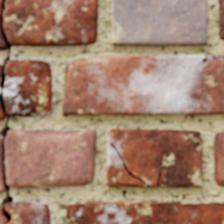brick: (62, 56, 223, 115), (107, 129, 202, 186), (112, 0, 207, 47), (67, 202, 223, 223), (213, 132, 223, 186), (218, 0, 223, 40)
broken_brick: (5, 130, 96, 187), (4, 0, 98, 47), (4, 60, 52, 117), (6, 202, 50, 223), (0, 30, 7, 50), (0, 173, 6, 191), (0, 206, 6, 223), (0, 102, 5, 120), (0, 136, 3, 157), (0, 65, 2, 95), (0, 0, 2, 16)
crack: (0, 0, 13, 223), (111, 142, 150, 186), (156, 161, 168, 186), (113, 182, 141, 186), (200, 56, 206, 64)
